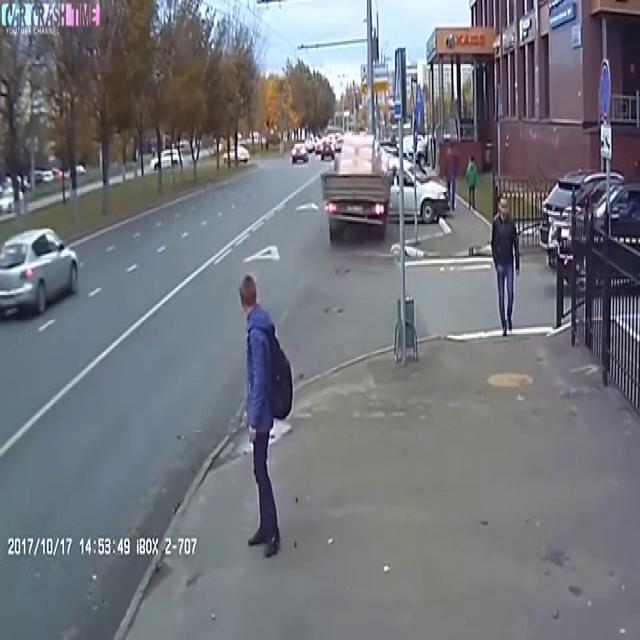accident: (310, 108, 400, 246)
